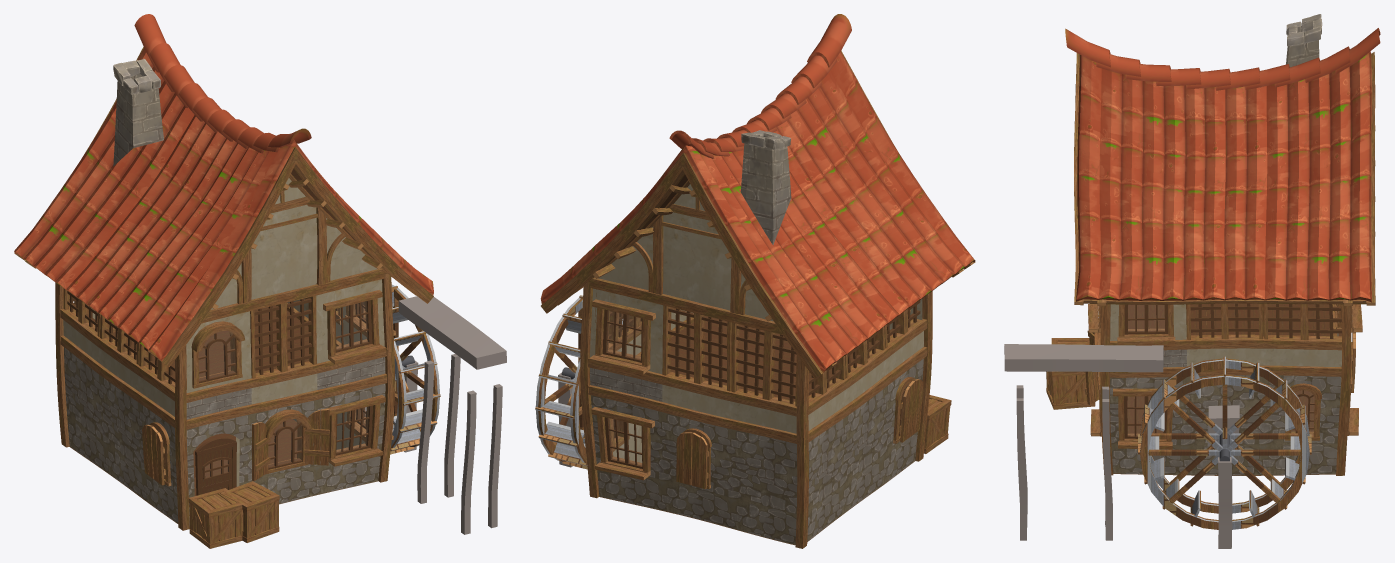
The model's file is S_watermill.gltf.
3 renders of one model, left to right at view 1: azimuth 30°, elevation 25°; view 2: azimuth 150°, elevation 25°; view 3: azimuth 270°, elevation 25°, orthographic. The views are drawn at different scales.
Parts seen in each view (by area): view 1: S_watermill, Wheel; view 2: S_watermill, Wheel; view 3: S_watermill, Wheel.
Boxes of the visible parts, x1,y1,x2,y2 form: S_watermill: (14,14,506,548); Wheel: (363,284,440,454); S_watermill: (540,14,975,548); Wheel: (535,295,623,469); S_watermill: (1004,14,1380,548); Wheel: (1138,356,1311,529).
Size of the model in its own units: 10.01 by 12.21 by 9.74.
44 materials, 39 textured.
